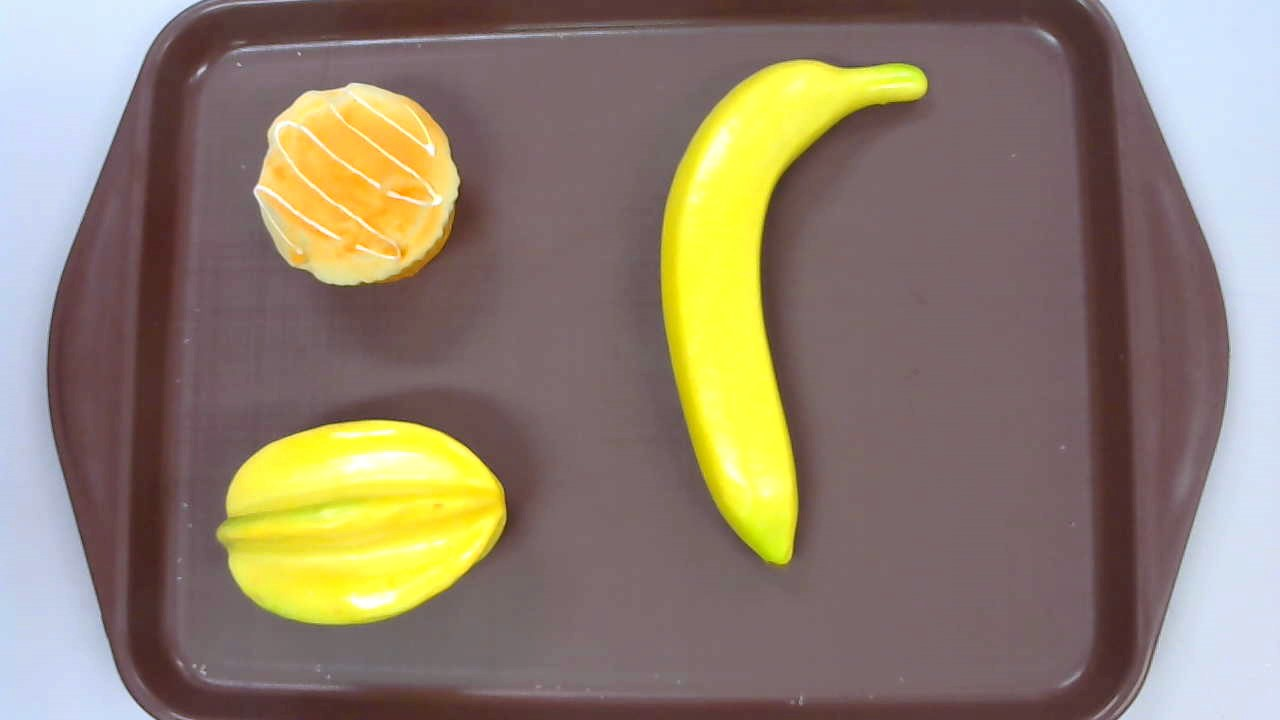banana: (658, 57, 929, 564)
cupcake: (253, 82, 461, 290)
star fruit: (216, 419, 506, 626)
